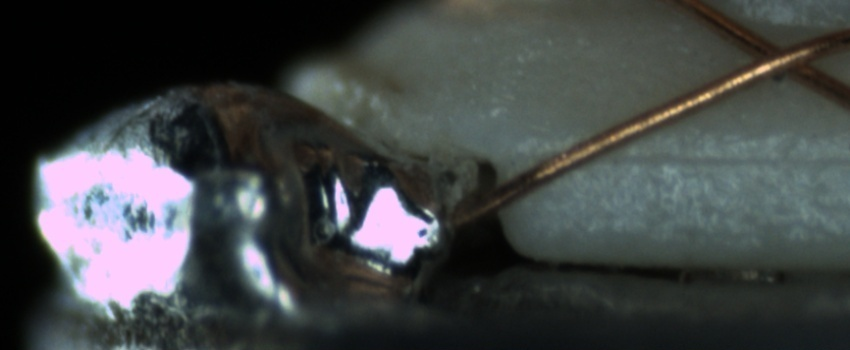CL: (724, 24, 832, 90)
DL: (559, 124, 850, 191)
